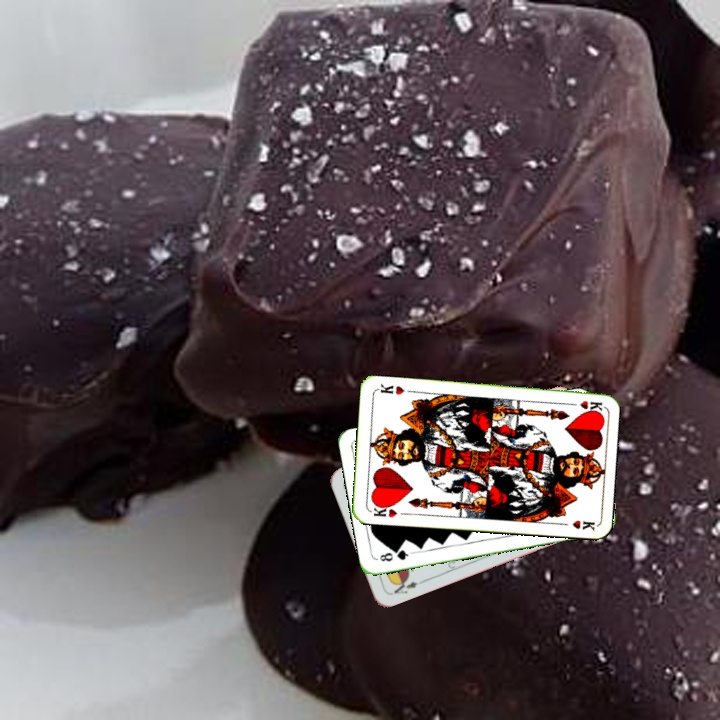EA: (389, 574, 427, 596)
G8: (376, 546, 414, 564)
HK: (563, 397, 604, 414), (367, 500, 399, 520)
